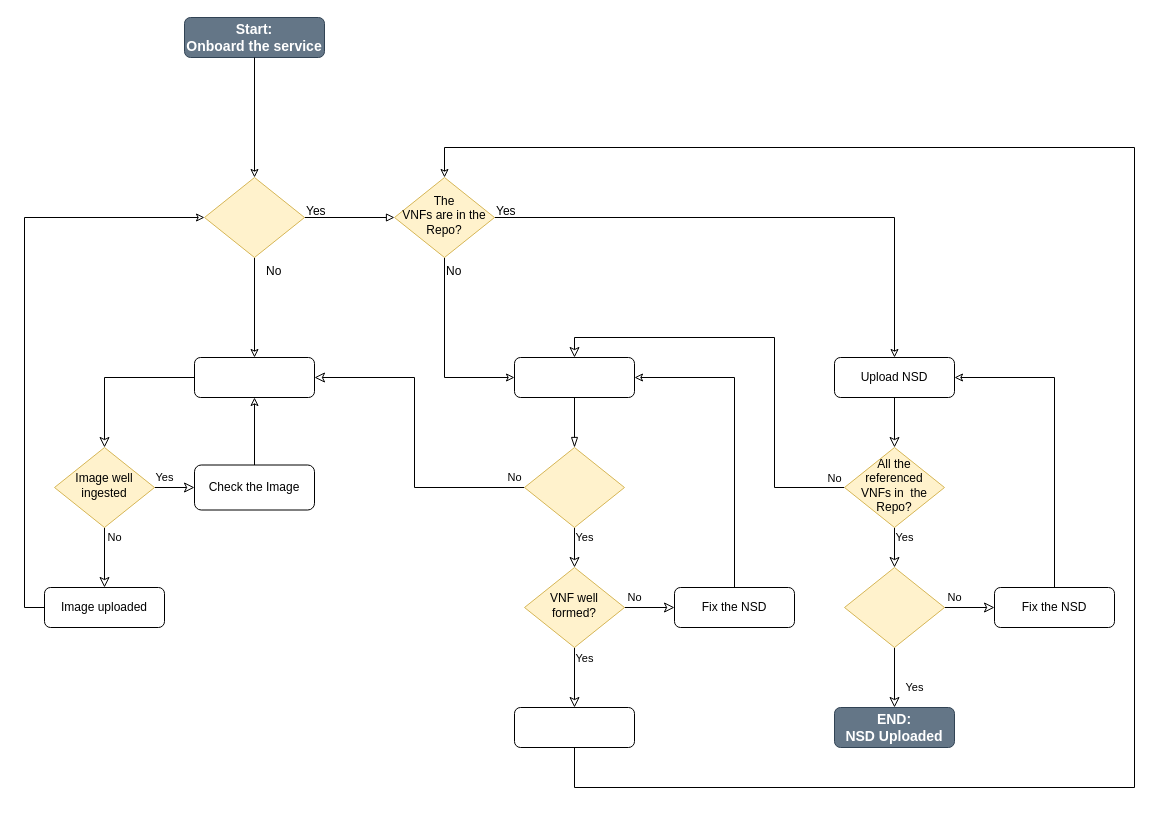
The diagram is 1160 pixels wide and 813 high, and some of its shapes have lost their labels. The centre of each missing label's shape, as x and y in pixels:
"All the referenced images?" belongs at point (574, 487).
"NSD well formed?" belongs at point (894, 607).
"The images are in the VIM?" belongs at point (254, 217).
"Upload Image" belongs at point (254, 377).
"Upload VNFD" belongs at point (574, 377).
"VNF Uploaded" belongs at point (574, 727).
